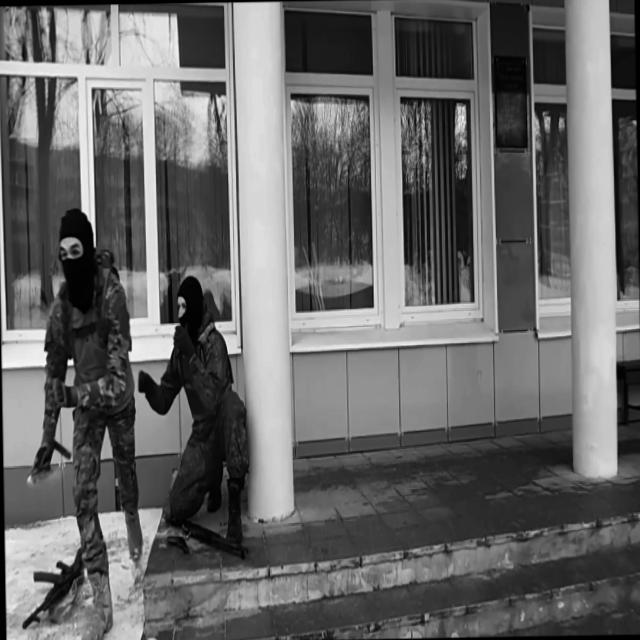gun: (19, 541, 88, 632), (165, 507, 252, 563), (166, 530, 190, 558)
person with a gun: (24, 203, 145, 640), (136, 272, 252, 548)
